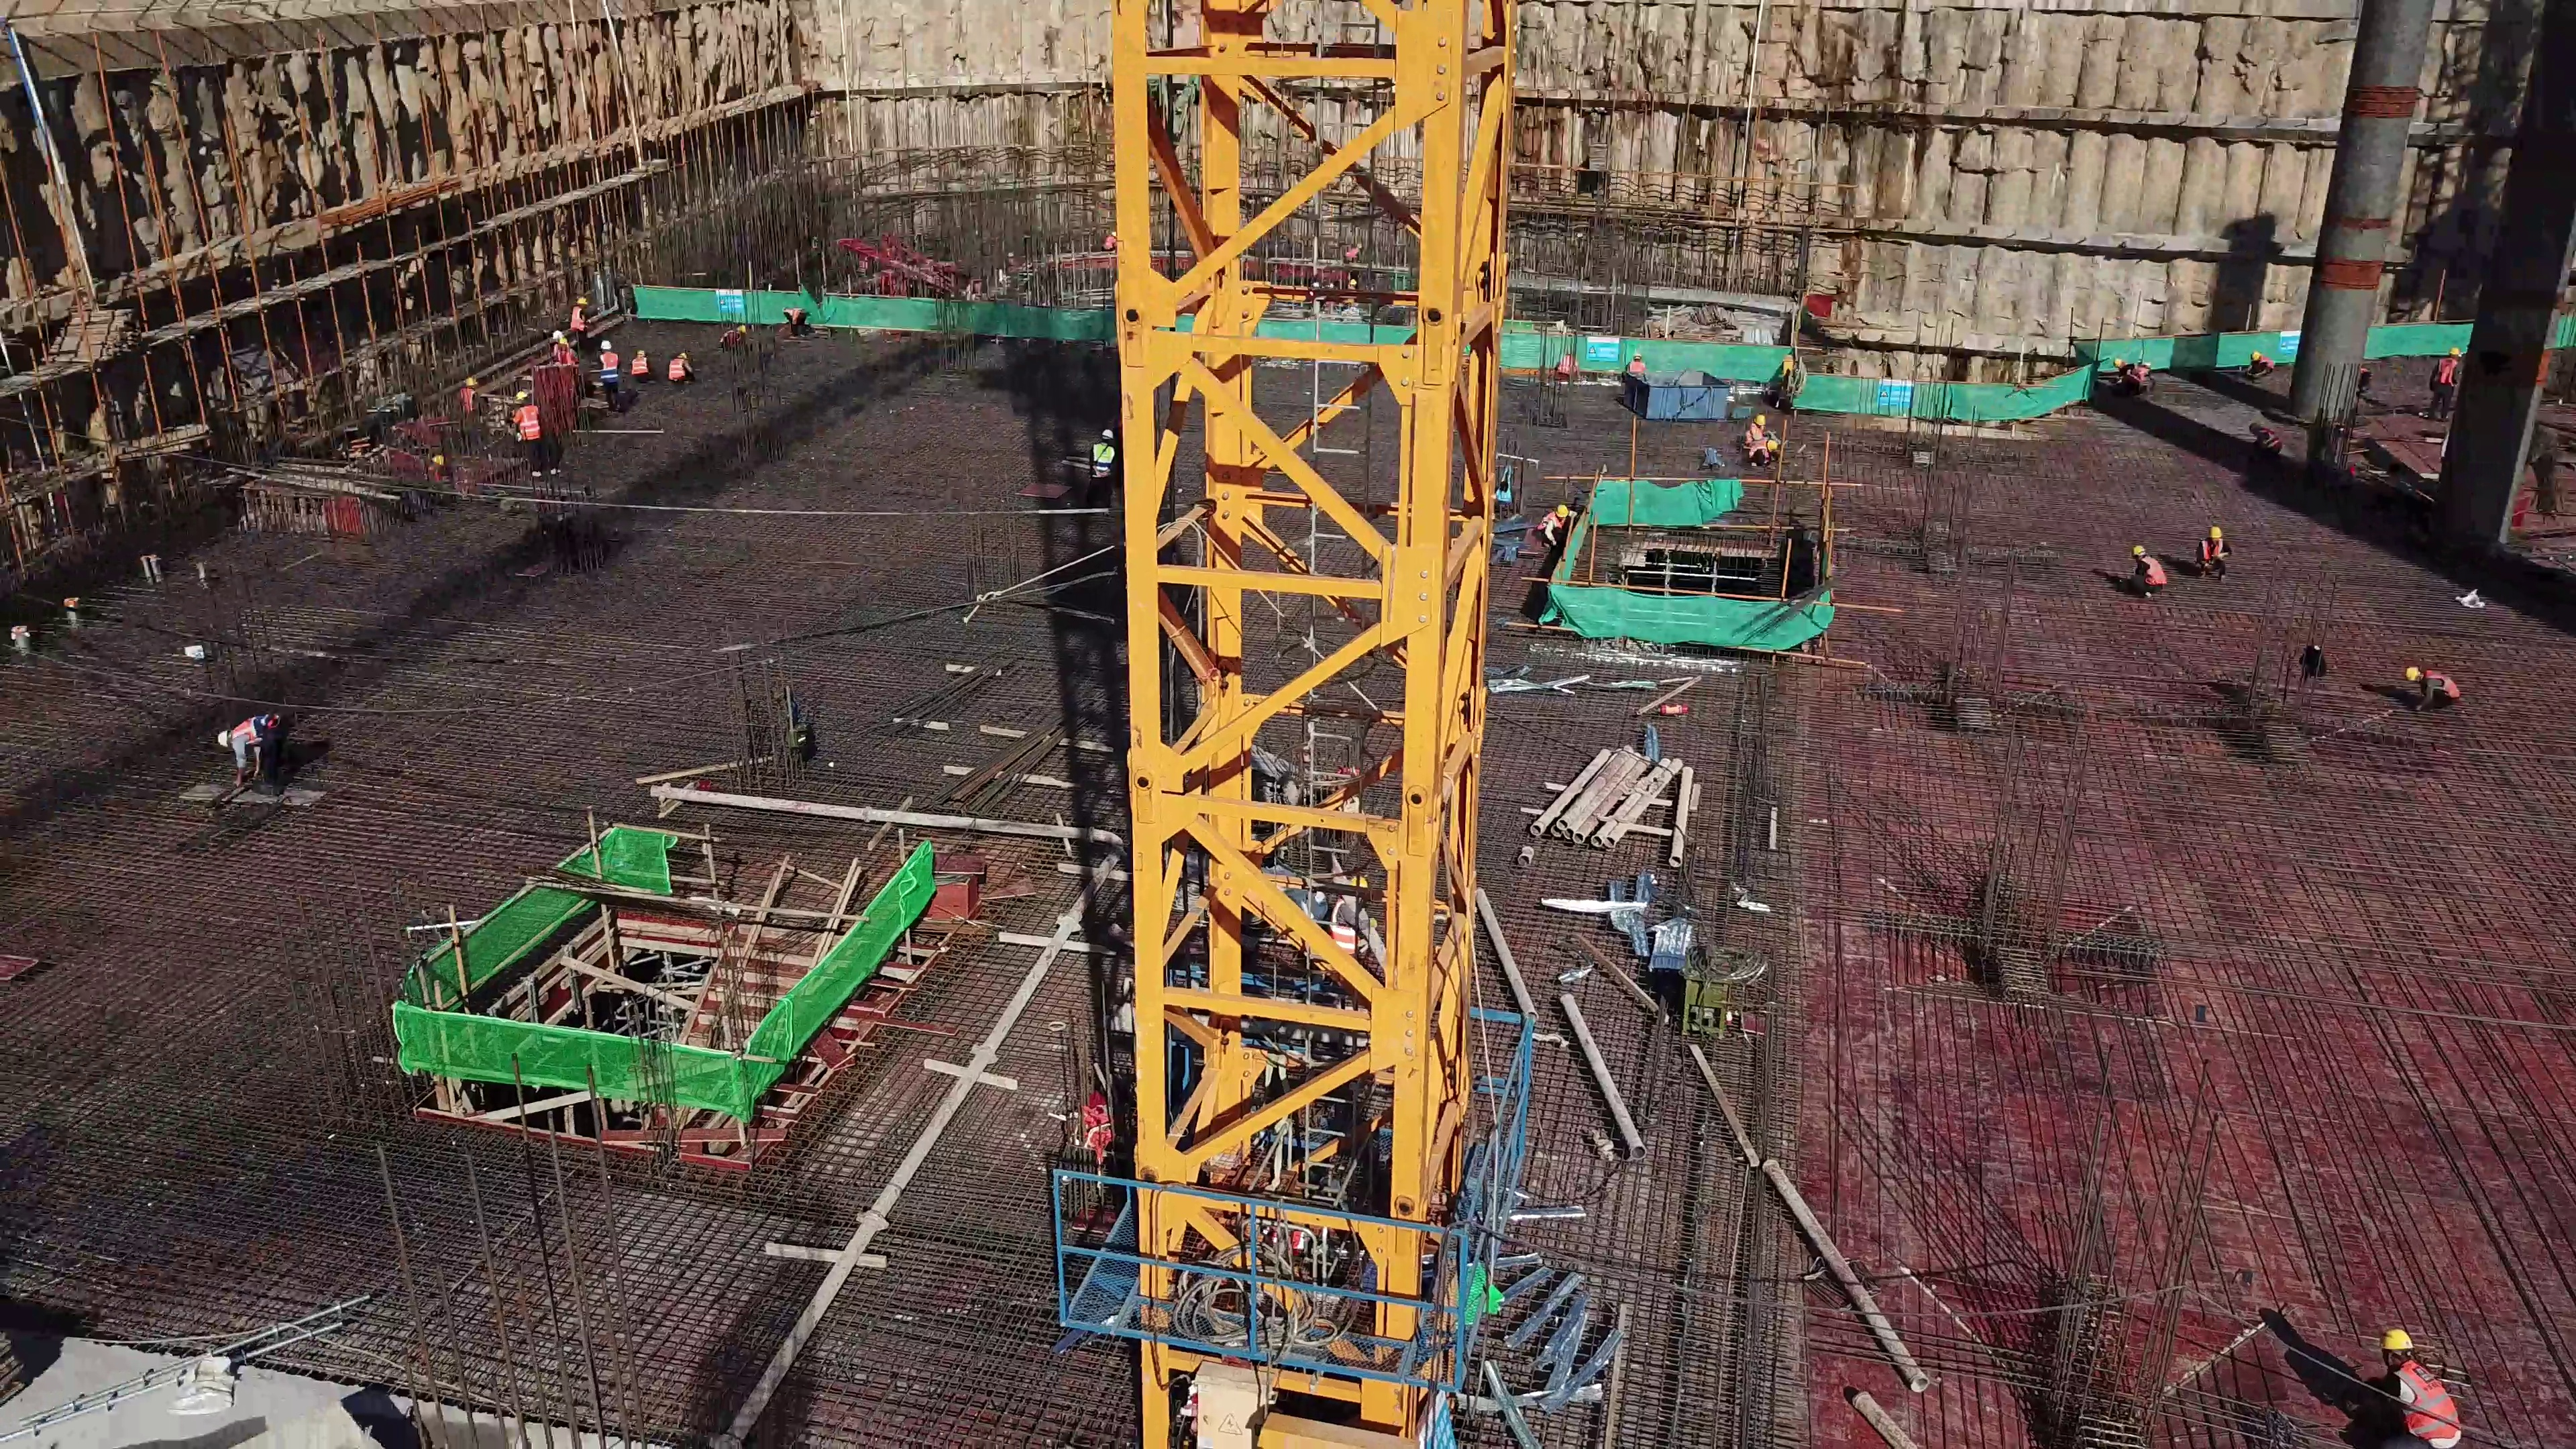helmet: (2381, 1328, 2418, 1350), (215, 727, 229, 751), (599, 339, 615, 353), (1754, 412, 1768, 427), (2209, 525, 2223, 541), (461, 375, 478, 387), (1096, 427, 1114, 441), (2449, 343, 2463, 358), (515, 390, 531, 402), (574, 294, 590, 306), (1768, 438, 1779, 453), (2249, 421, 2262, 434), (2407, 665, 2419, 680), (2131, 546, 2144, 557), (2249, 350, 2262, 360), (1631, 351, 1644, 360), (2110, 356, 2120, 368), (636, 348, 649, 356)
person: (2347, 1325, 2493, 1446), (209, 697, 306, 808), (2117, 537, 2182, 599), (2401, 661, 2472, 716), (1080, 420, 1125, 506), (2422, 339, 2464, 417), (2192, 519, 2239, 584), (511, 386, 543, 473), (2112, 354, 2159, 398), (2245, 418, 2286, 468), (598, 339, 624, 417), (770, 305, 821, 344), (1749, 431, 1788, 471), (1738, 407, 1768, 451), (2241, 349, 2282, 379), (628, 347, 659, 381), (720, 321, 756, 353), (570, 297, 594, 339), (666, 348, 696, 384), (460, 374, 486, 412), (1621, 348, 1646, 374)
vest: (2383, 1362, 2467, 1444), (229, 713, 283, 743), (2424, 666, 2466, 700), (2133, 555, 2167, 585), (514, 407, 541, 441), (1089, 441, 1115, 476), (2433, 357, 2461, 386), (2260, 425, 2284, 451), (2197, 539, 2227, 559), (2126, 362, 2151, 386), (1751, 439, 1769, 465), (598, 352, 621, 370), (629, 356, 652, 374), (571, 307, 587, 331), (462, 388, 481, 409), (670, 358, 687, 379), (1746, 423, 1759, 445), (1625, 360, 1646, 372), (2262, 356, 2276, 368)
